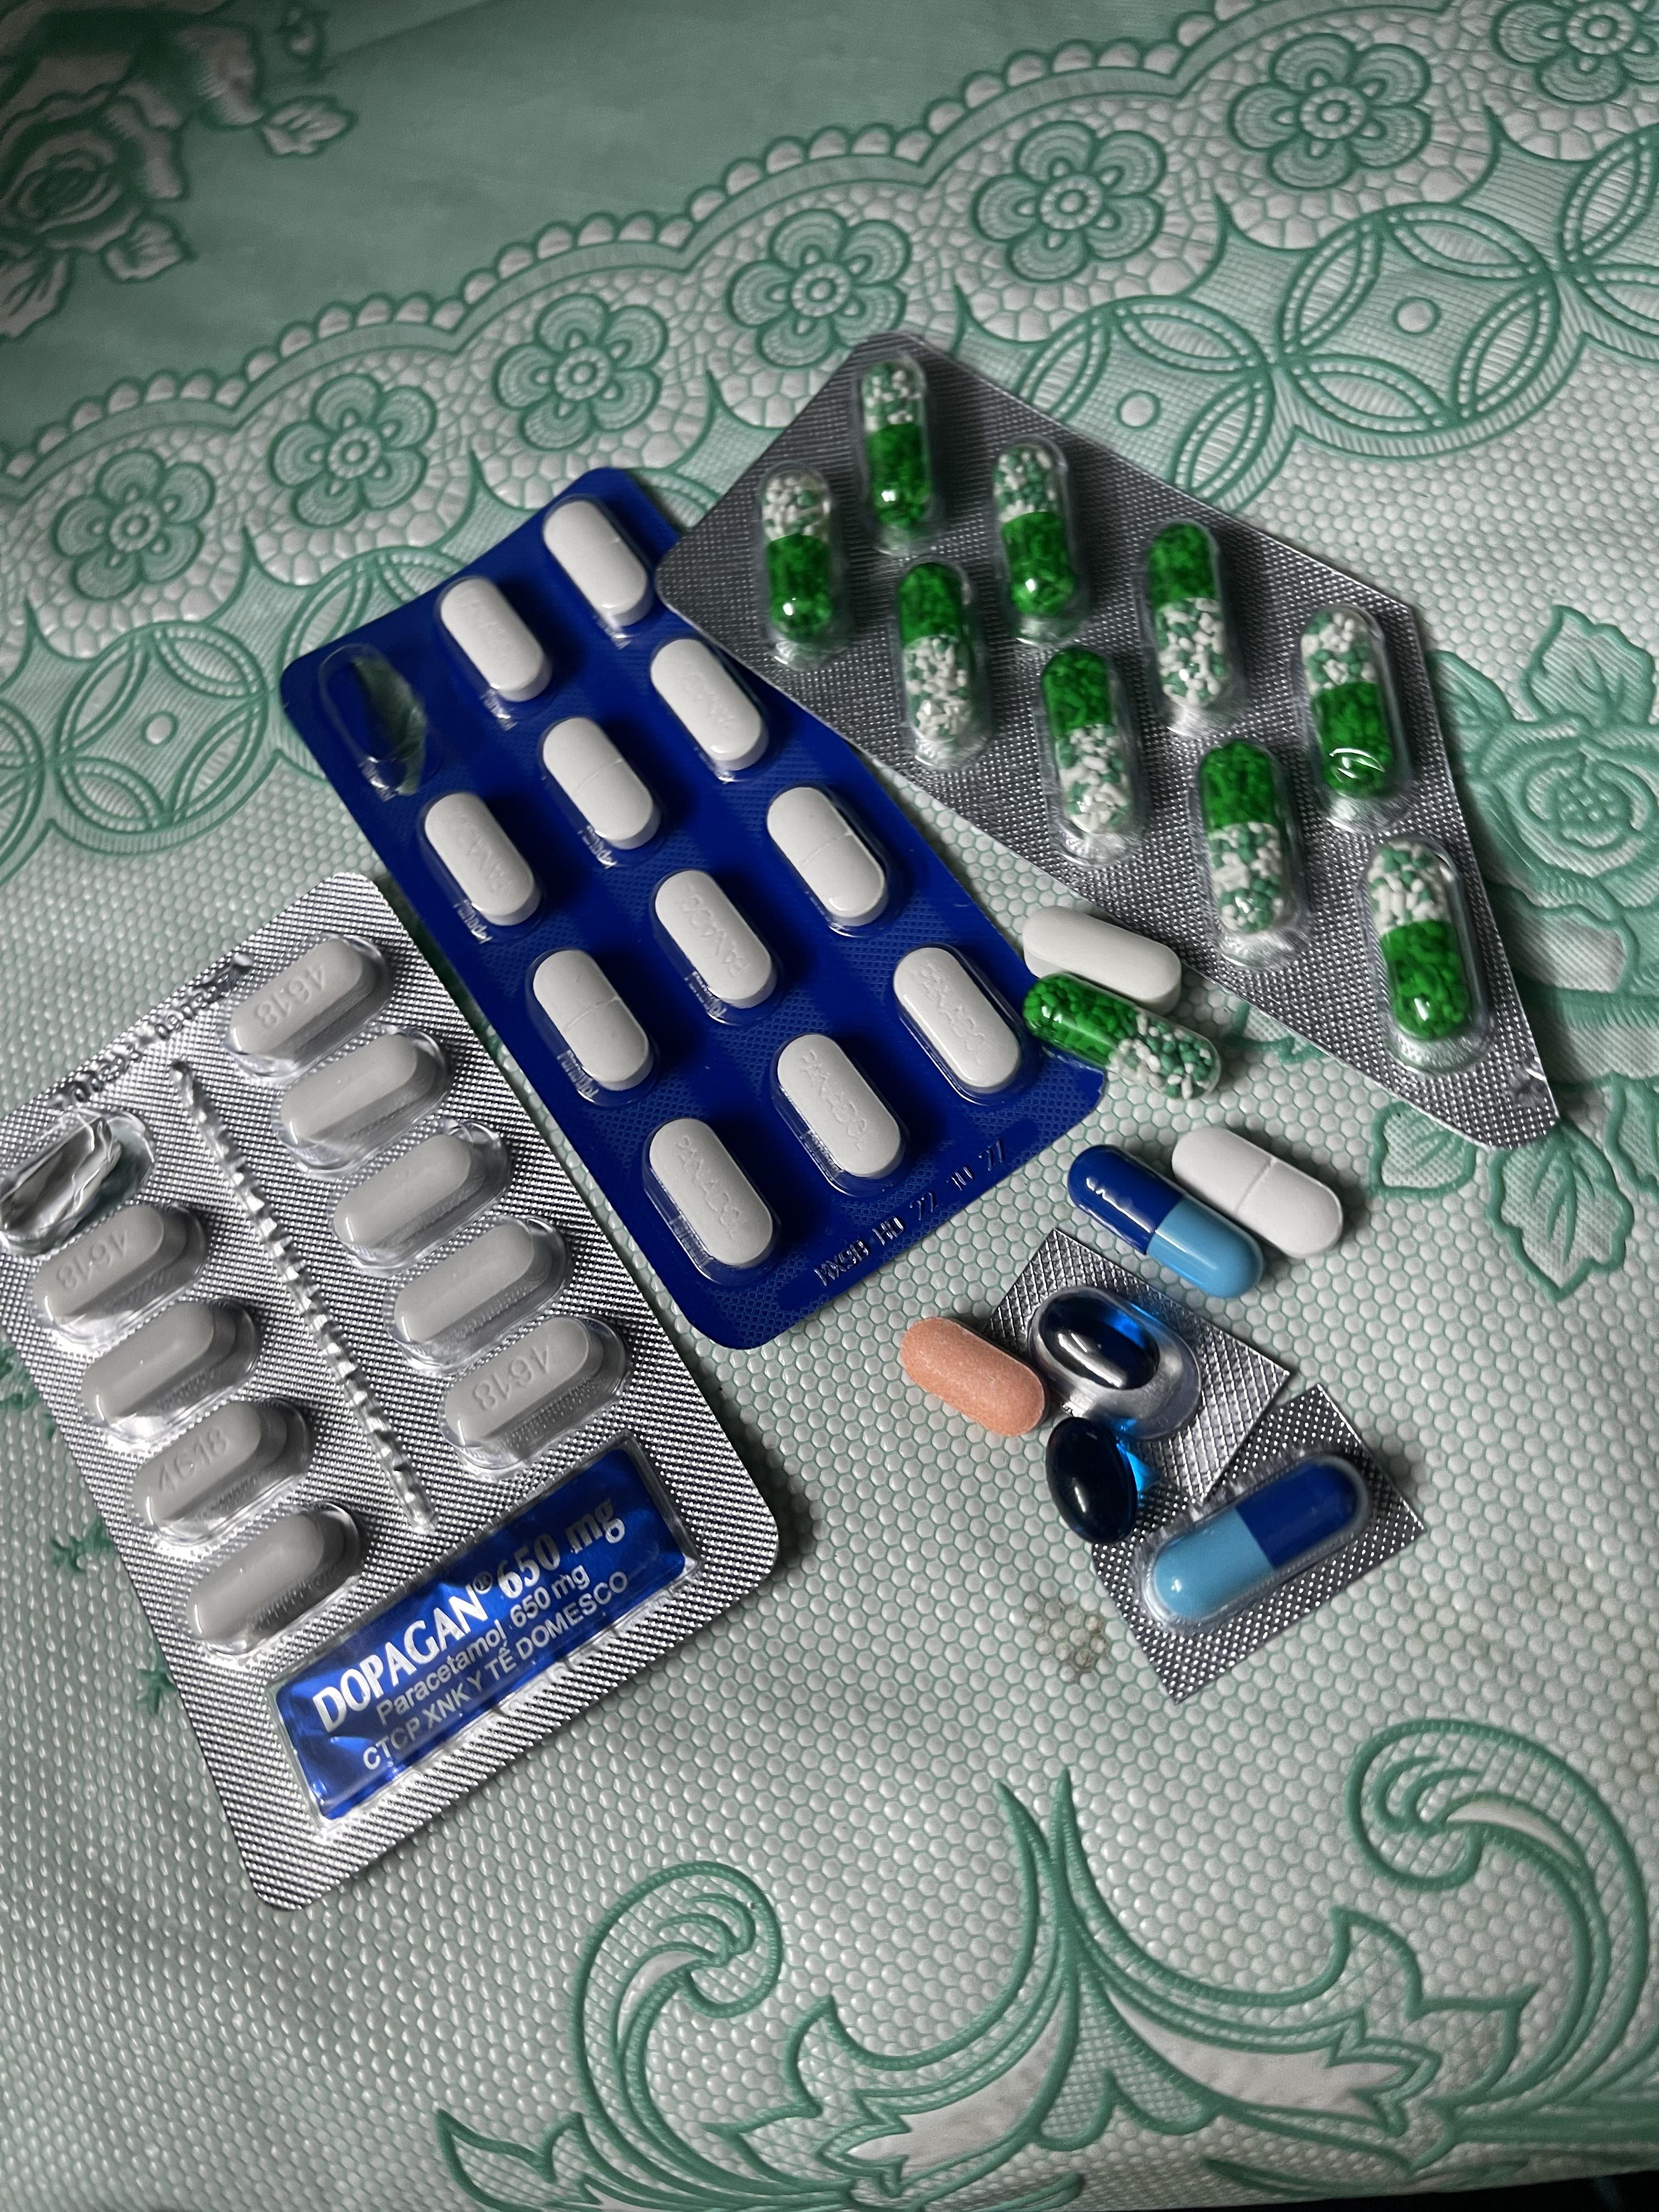Lincomyxin_500mg: (1044, 1411, 1150, 1548), (1046, 1301, 1159, 1388)
Loratadine_10mg: (896, 1318, 1044, 1439)
Paracetamol_350mg: (890, 942, 1030, 1099), (1175, 1123, 1340, 1252), (645, 1120, 782, 1273), (775, 1035, 908, 1183), (652, 866, 781, 1014), (530, 949, 655, 1096), (767, 786, 892, 928), (542, 718, 662, 857), (422, 792, 540, 930), (650, 637, 767, 775), (544, 496, 653, 631), (439, 578, 549, 705)
Paracetamol_500mg: (441, 1312, 622, 1474), (178, 1501, 361, 1653), (77, 1296, 258, 1446), (127, 1390, 308, 1540), (383, 1214, 561, 1364), (275, 1028, 446, 1170), (26, 1202, 197, 1345), (230, 932, 389, 1068), (1023, 900, 1178, 1015)
Paracetamol_650mg: (1028, 974, 1216, 1099), (1364, 840, 1474, 1054), (1199, 747, 1302, 956), (1035, 650, 1140, 853), (1147, 523, 1243, 730), (897, 563, 992, 761), (1304, 611, 1396, 801), (995, 449, 1084, 631), (763, 469, 842, 643), (861, 361, 934, 538)
pill: (1141, 1453, 1366, 1634), (1072, 1150, 1260, 1298)
